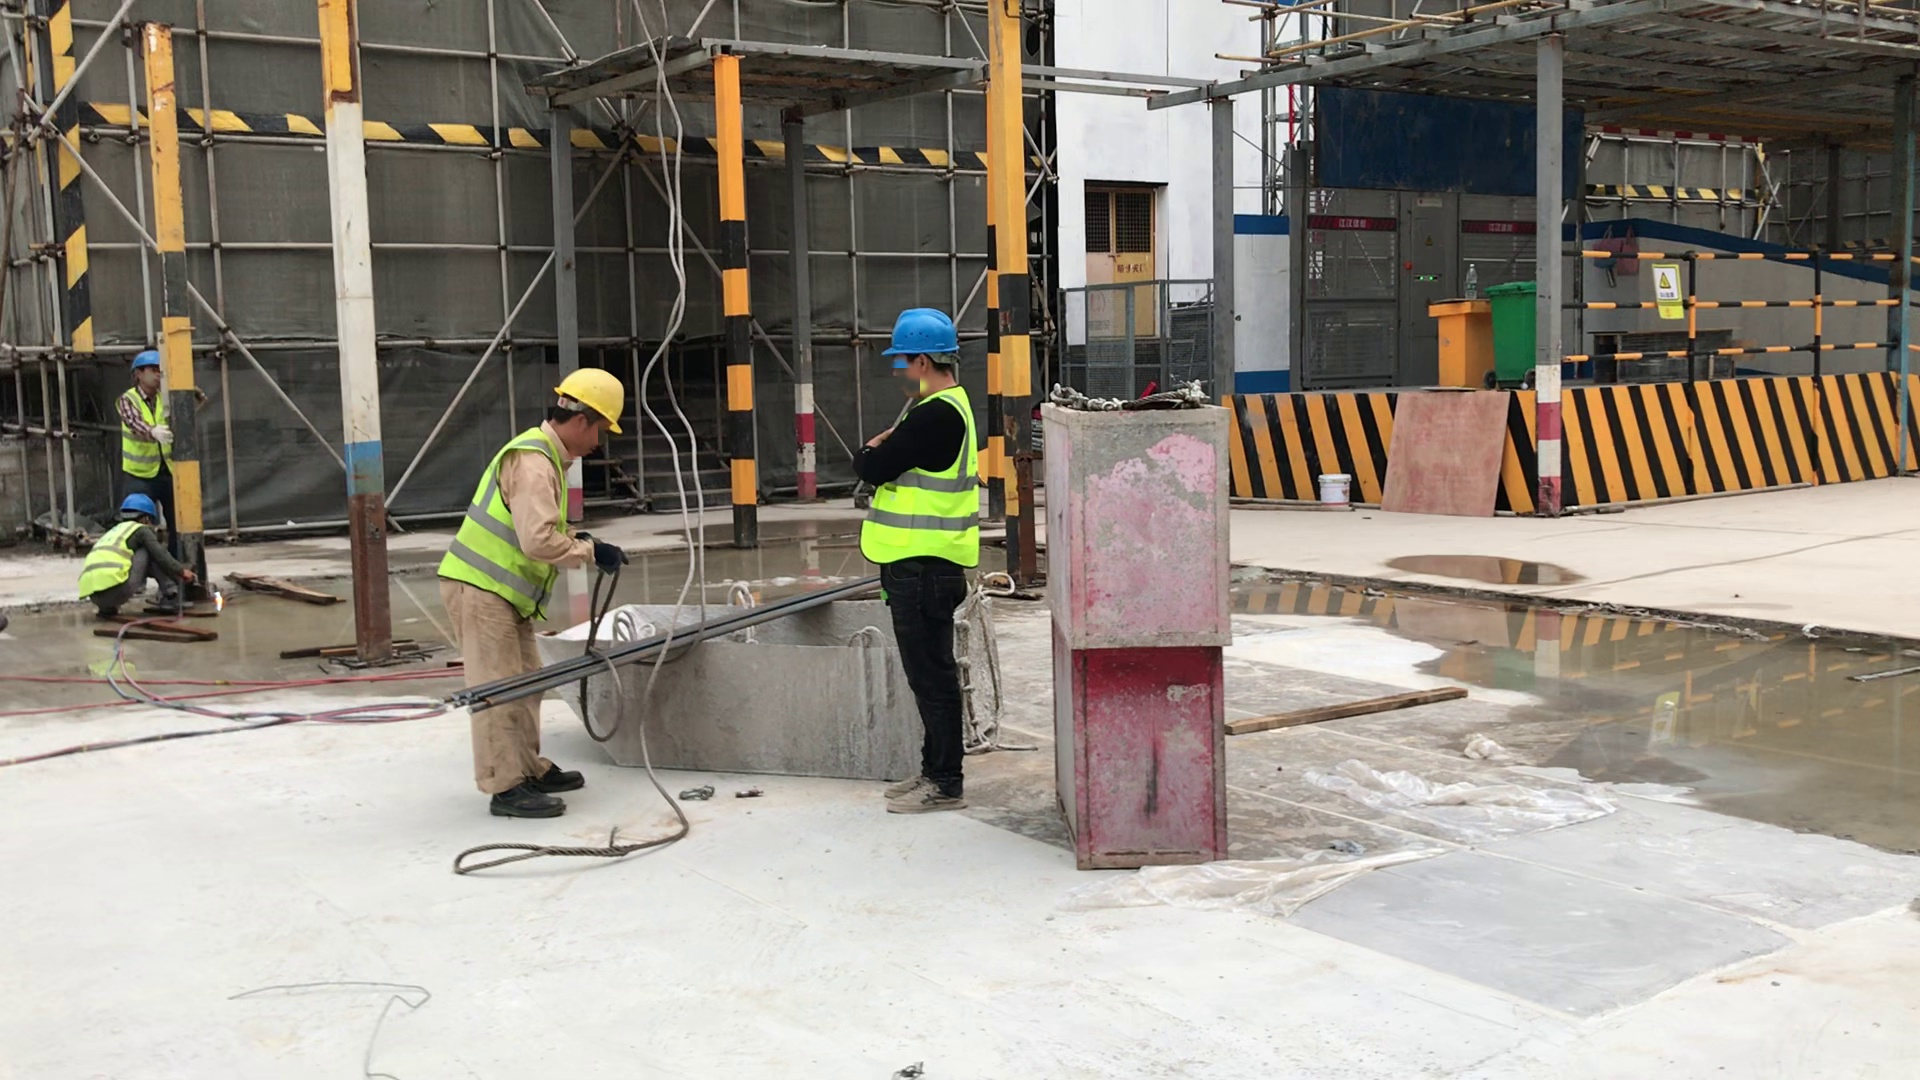fence: (1567, 237, 1920, 376)
helmet: (539, 347, 635, 439), (878, 301, 973, 374), (111, 487, 173, 520), (128, 346, 171, 370)
hopper: (525, 570, 1017, 801)
person: (429, 354, 644, 824), (848, 297, 1027, 834), (75, 480, 189, 638), (111, 345, 189, 510)
rebar: (440, 593, 876, 715)
slogan: (1642, 250, 1690, 326)
vest: (429, 428, 584, 630), (856, 385, 990, 587), (99, 388, 184, 480), (76, 519, 144, 601)
